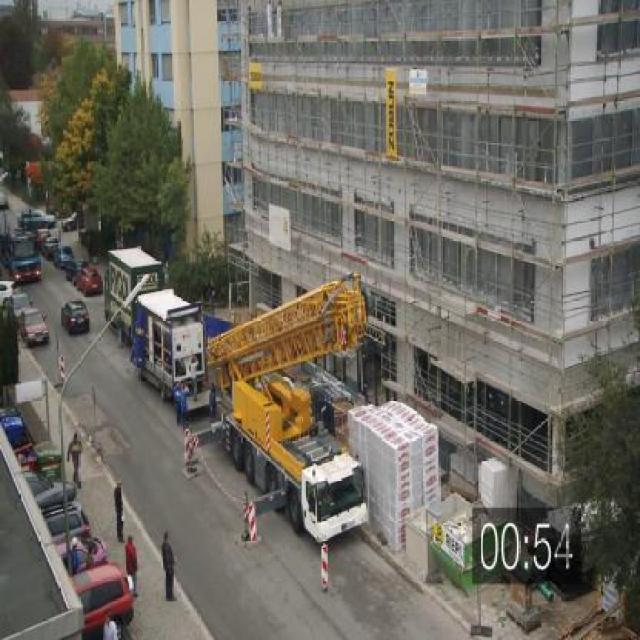Mobile Crane: (182, 277, 366, 545)
